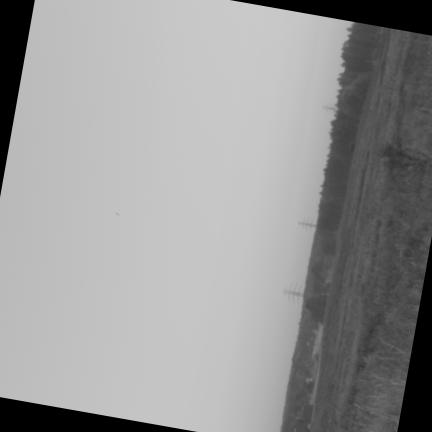Shahed: (115, 211, 119, 215)
